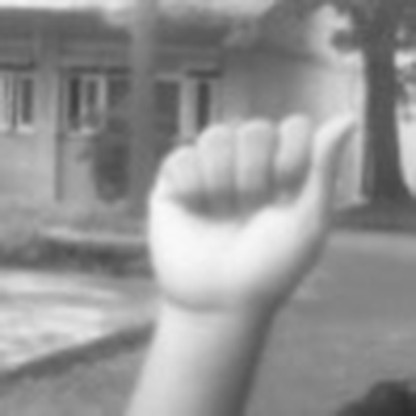a: (137, 106, 364, 320)
